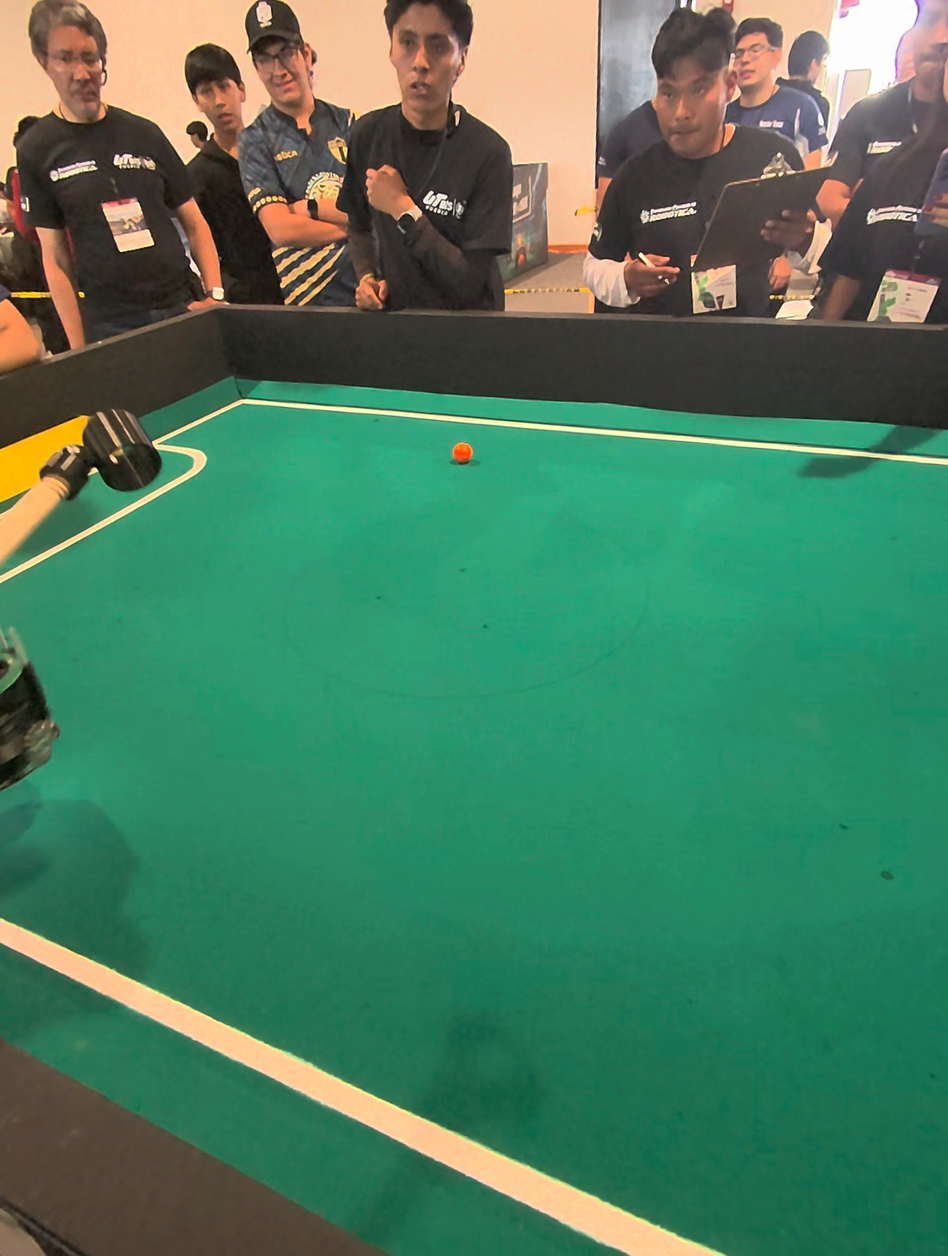Robot: (0, 605, 63, 796), (80, 399, 166, 489)
pelota: (438, 432, 490, 469)
